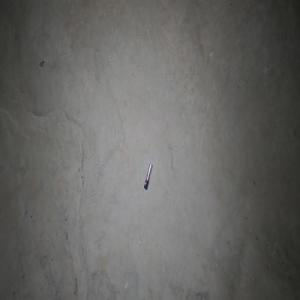Battery: (143, 162, 153, 190)
